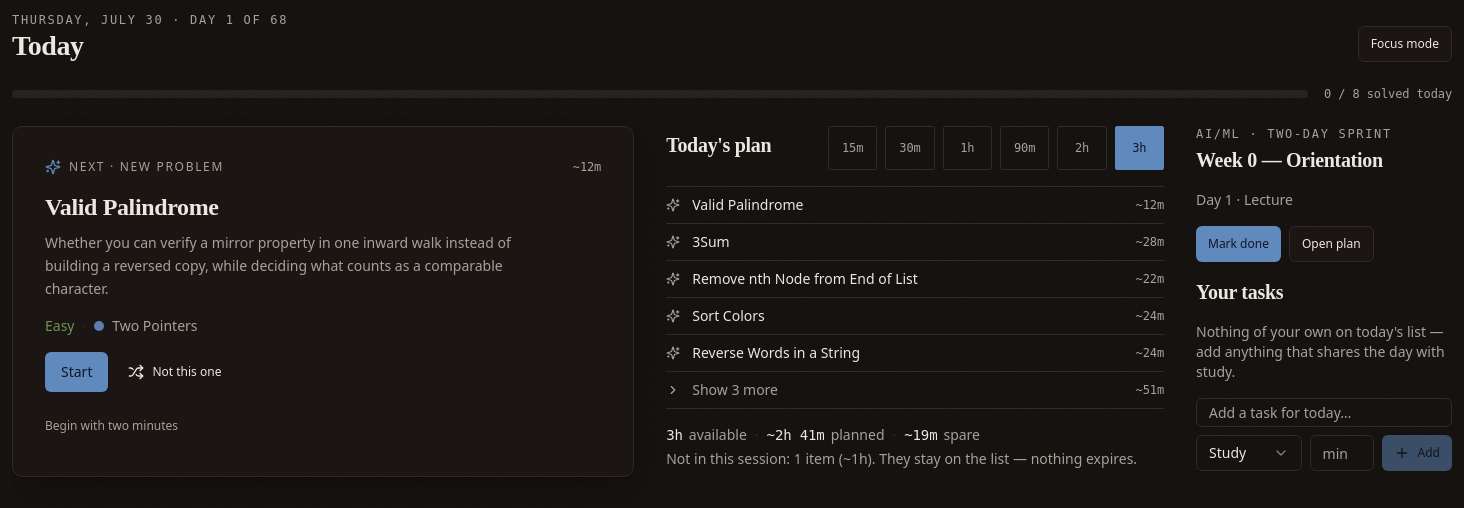
Test: TodayPage — retained surfaces › AI/ML course card shows the next session, and one a day is the cadence
Expected: the heading "Week 0 — Orientation" is shown, 1196,146 -> 1392,174
Expected: the text "Day 1 · Lecture" is shown, 1196,190 -> 1293,210
Click the button "Mark done": {"x": 1238, "y": 244} 1196,226 -> 1281,262
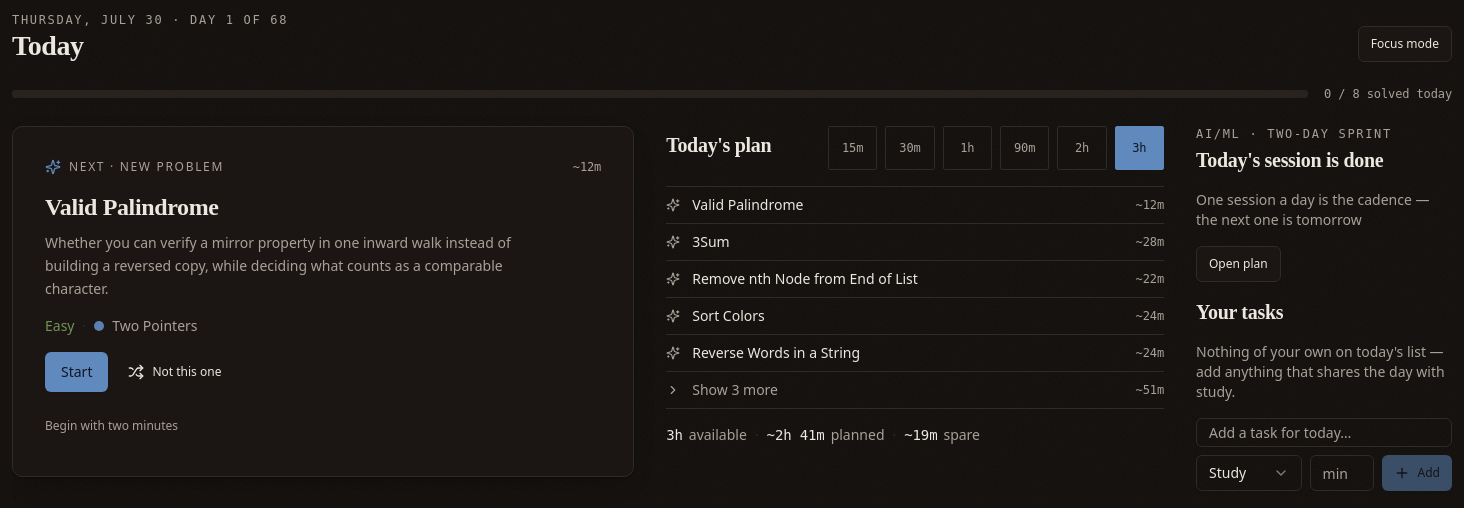
Expected: the button "Mark done" is gone
Expected: the heading "Today's session is done" is shown, 1196,146 -> 1392,174
